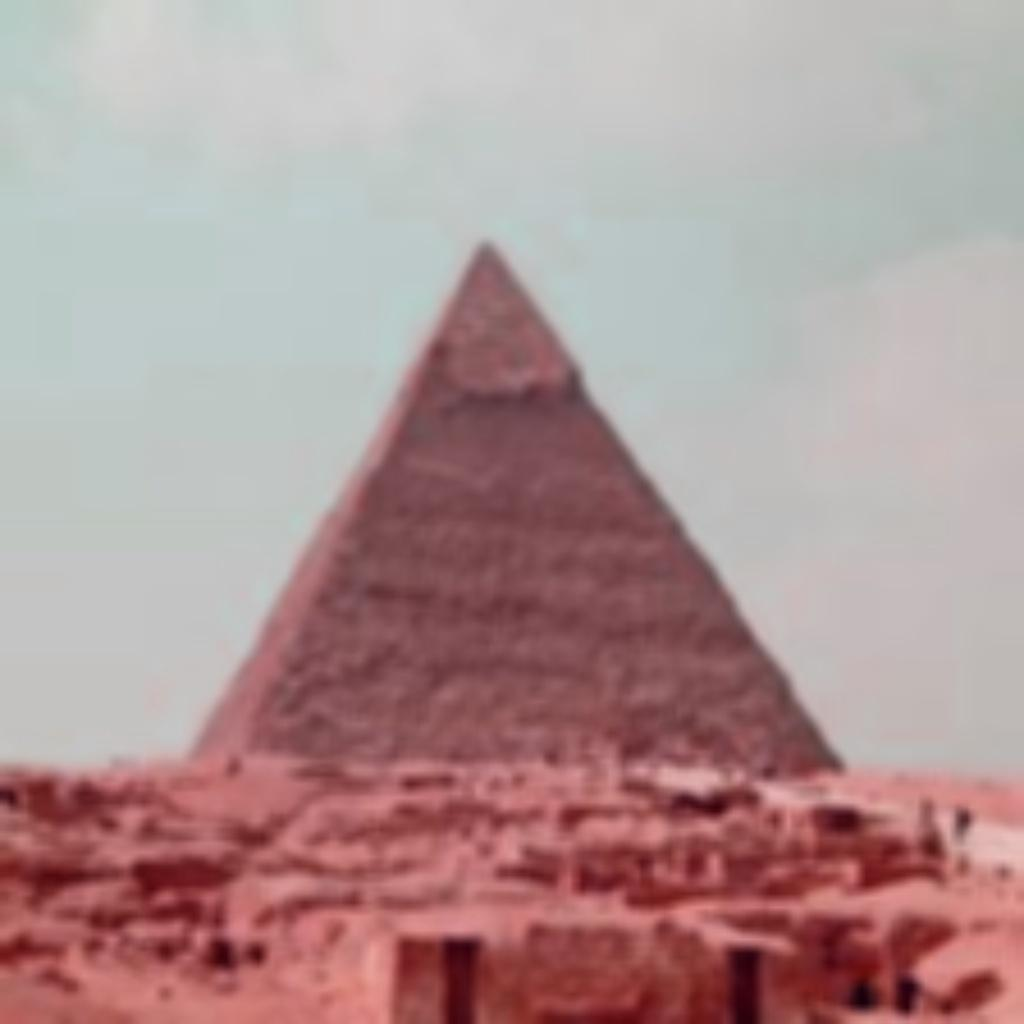Great Pyramids of Giza: (183, 234, 846, 772)
